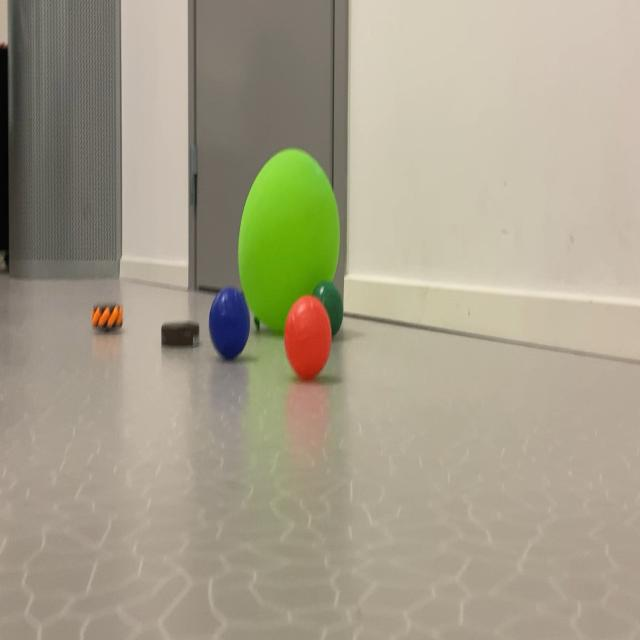7: (275, 279, 336, 416)
green ball: (192, 272, 255, 392)
red ball: (305, 253, 348, 327)
